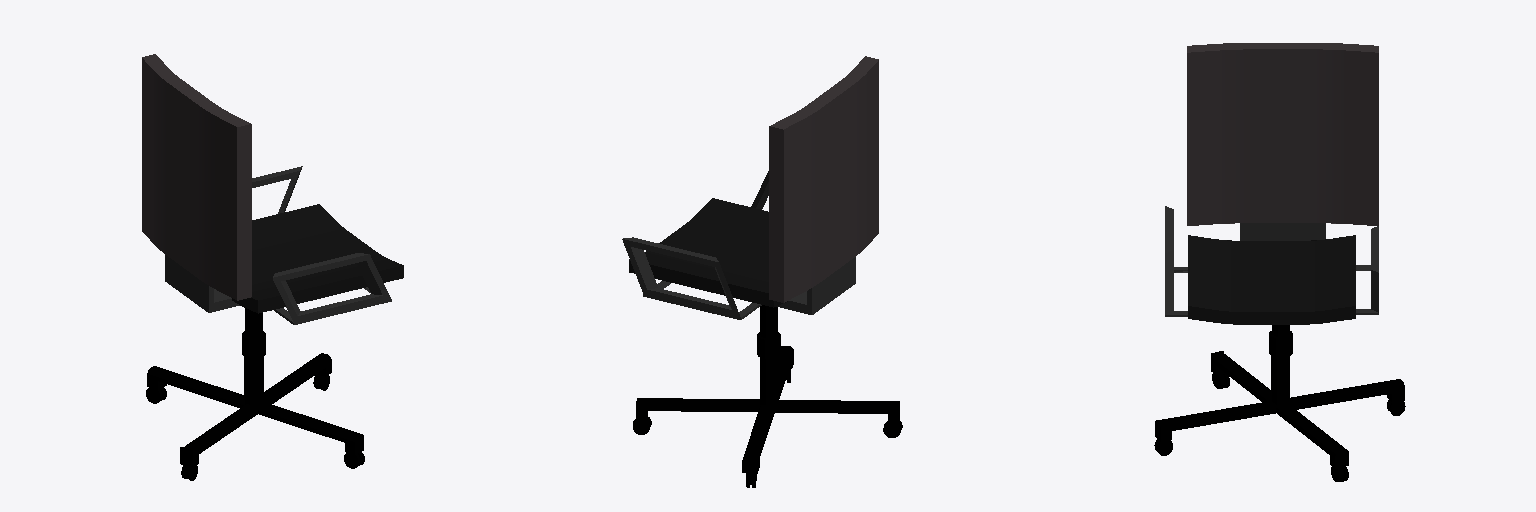
The model's file is DesskChair.obj.
3 views of the same model, side by side, from view 1: azimuth 30°, elevation 25°; view 2: azimuth 150°, elevation 25°; view 3: azimuth 270°, elevation 25° (orthographic).
Parts seen in each view (by area): view 1: Plane.196, Plane.197, Circle.075, Plane.198, Circle.074, Circle.076; view 2: Plane.196, Plane.197, Plane.198, Circle.075, Circle.074, Circle.076; view 3: Plane.196, Plane.197, Circle.075, Plane.198, Circle.074, Circle.076.
Boxes of the visible parts, box(x1,y1,x2,y2) form: Plane.196: box(142, 54, 251, 300); Plane.197: box(232, 204, 403, 313); Circle.075: box(147, 353, 363, 466); Plane.198: box(165, 166, 391, 324); Circle.074: box(242, 308, 265, 405); Circle.076: box(146, 374, 364, 480); Plane.196: box(769, 56, 878, 302); Plane.197: box(629, 198, 787, 307); Plane.198: box(622, 171, 855, 319); Circle.075: box(636, 346, 899, 473); Circle.074: box(757, 305, 780, 406); Circle.076: box(633, 369, 902, 487); Plane.196: box(1187, 43, 1378, 225); Plane.197: box(1188, 235, 1355, 324); Circle.075: box(1155, 351, 1404, 468); Plane.198: box(1165, 206, 1378, 316); Circle.074: box(1269, 325, 1292, 404); Circle.076: box(1154, 373, 1405, 481).
Bounding box in the file's own units: 0.9395 × 1.54 × 0.9834.